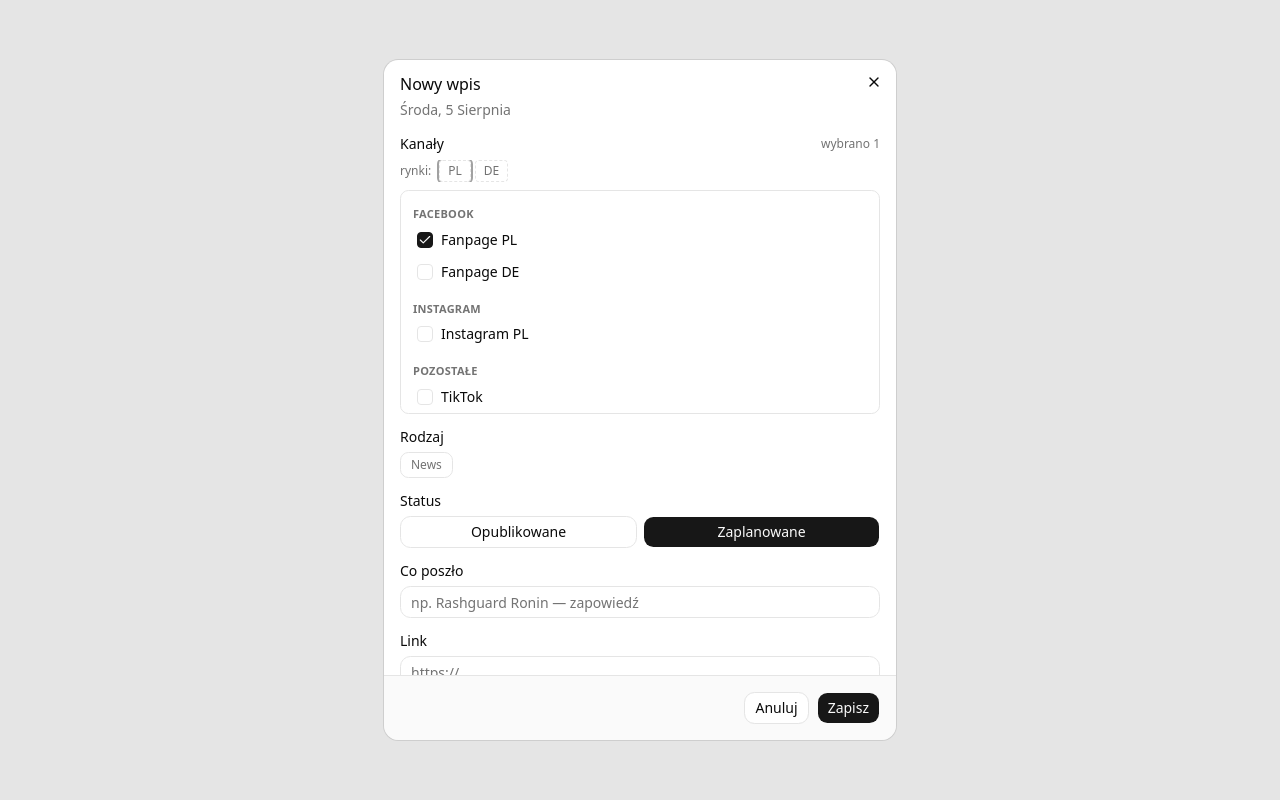
Scenario: PublicationDialog — dodawanie na kilka kanałów › przycisk mówi, ile wpisów powstanie
The width and height of the screenshot is (1280, 800).
Click the checkbox named "Fanpage DE" next to "Fanpage DE" at (425, 272), box [417, 264, 433, 280]
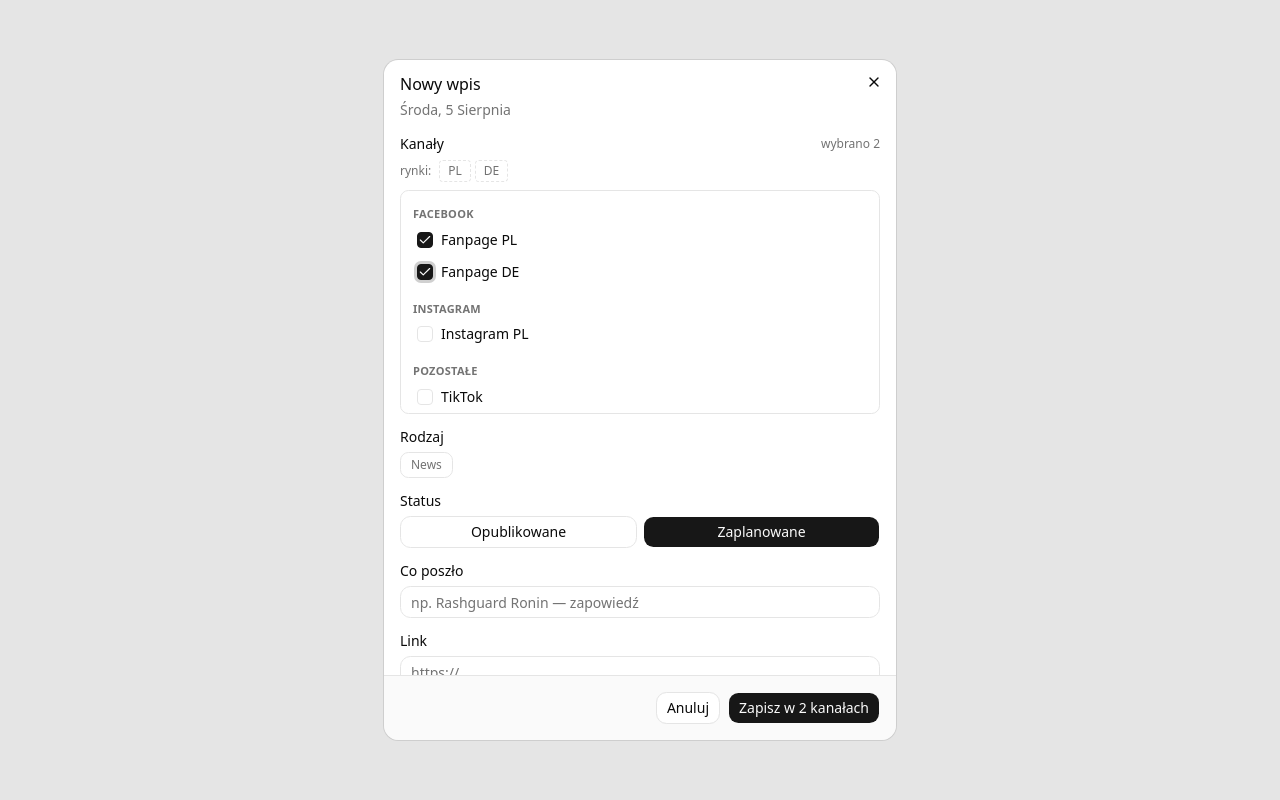
Now the button "Zapisz w 2 kanałach" is shown, box [728, 692, 880, 724]
